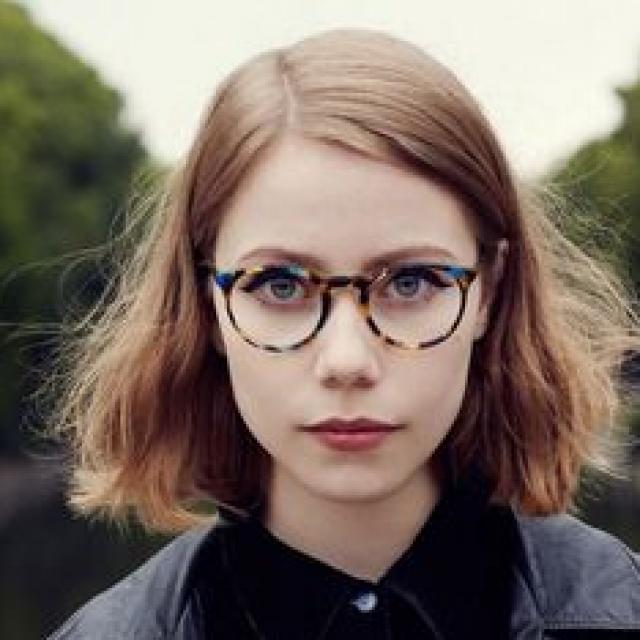Glasses: (207, 248, 484, 358)
